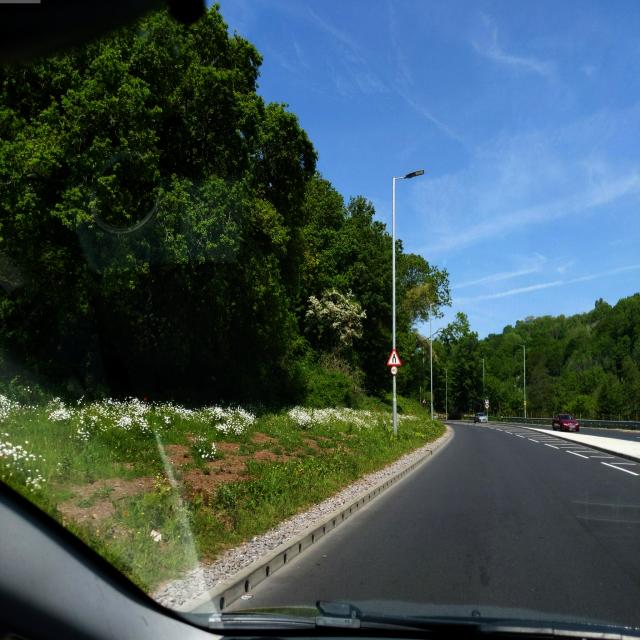car: (552, 412, 580, 432), (474, 412, 488, 423)
